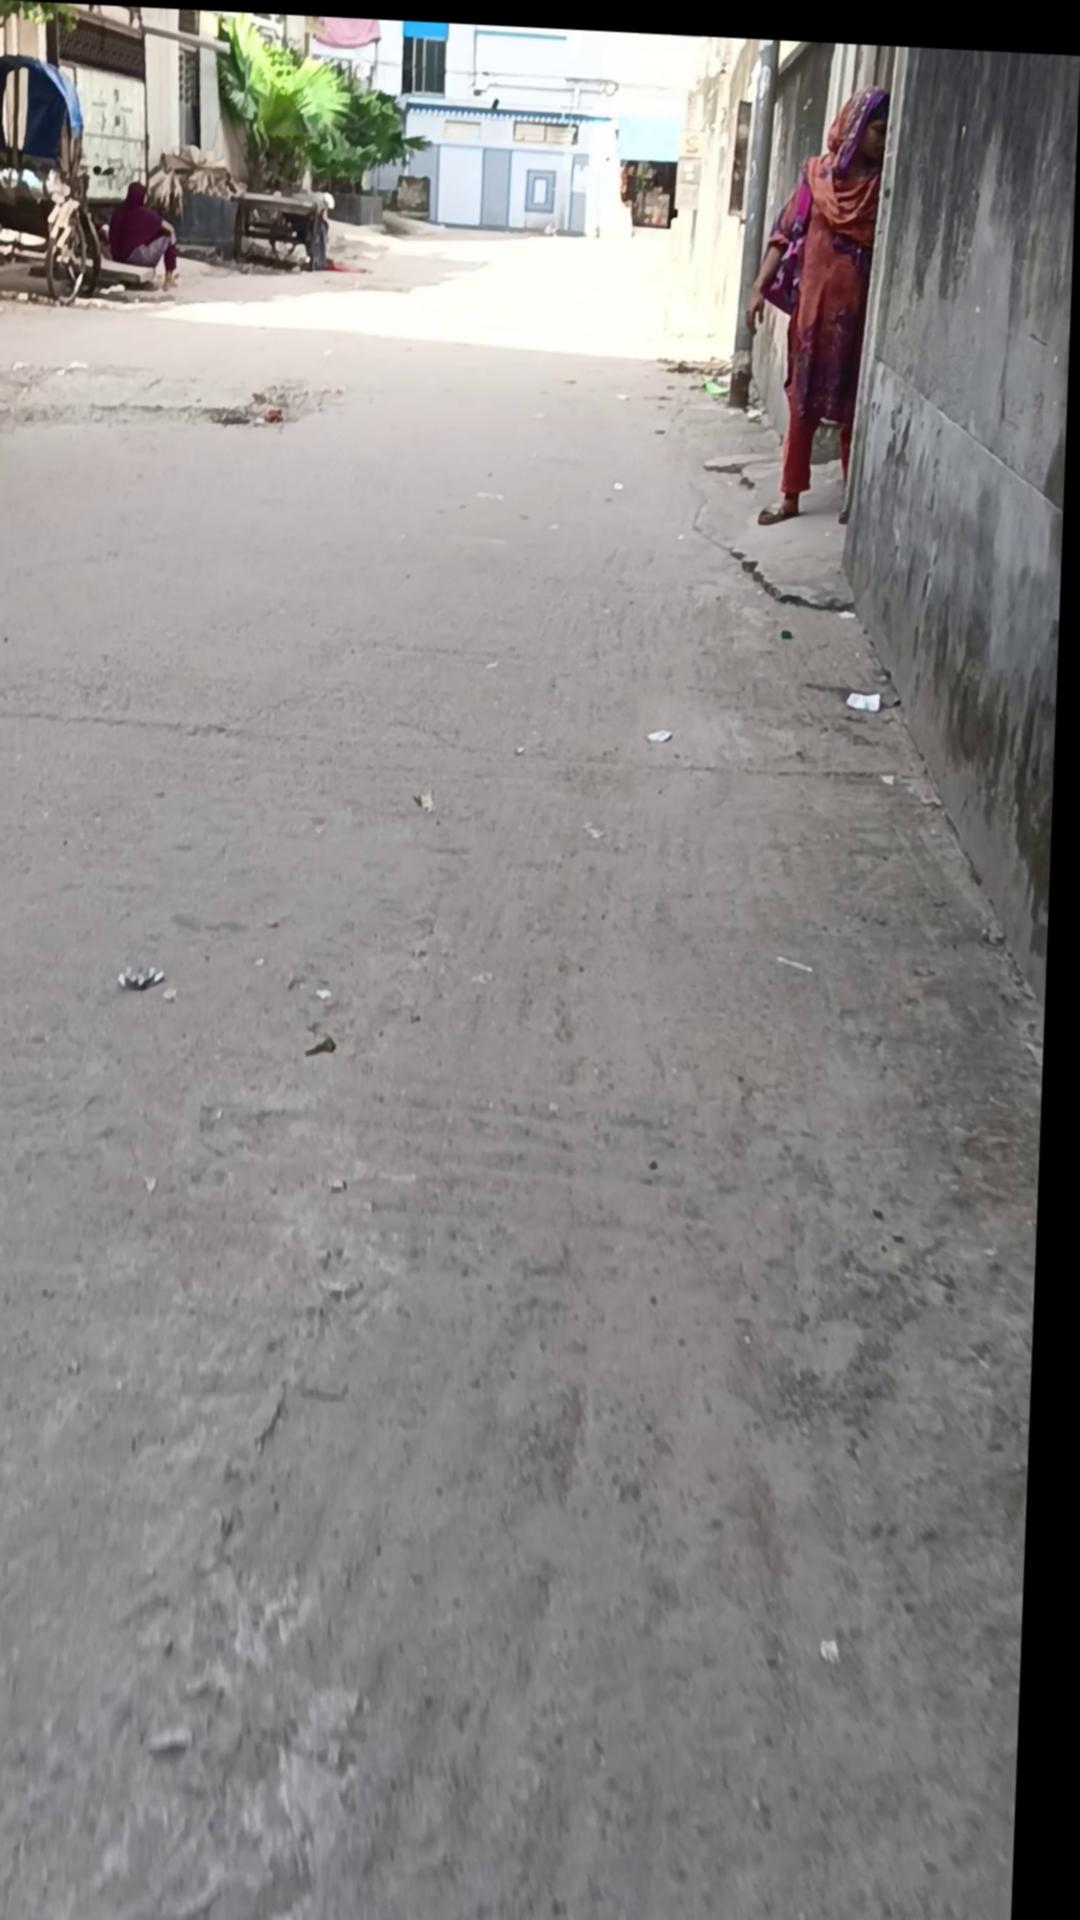Broken-road: (0, 196, 1071, 1920)
Crosswalk: (682, 364, 894, 642)
Muddy road: (740, 71, 890, 521), (105, 178, 183, 290), (303, 175, 339, 266)
Obstacle: (728, 32, 778, 402)
Pothole: (0, 51, 113, 305), (231, 186, 327, 269)
